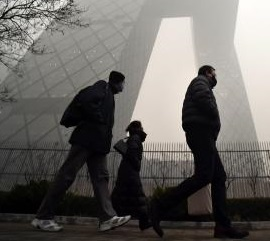person: (149, 63, 254, 238), (29, 69, 134, 235), (109, 116, 158, 235)
